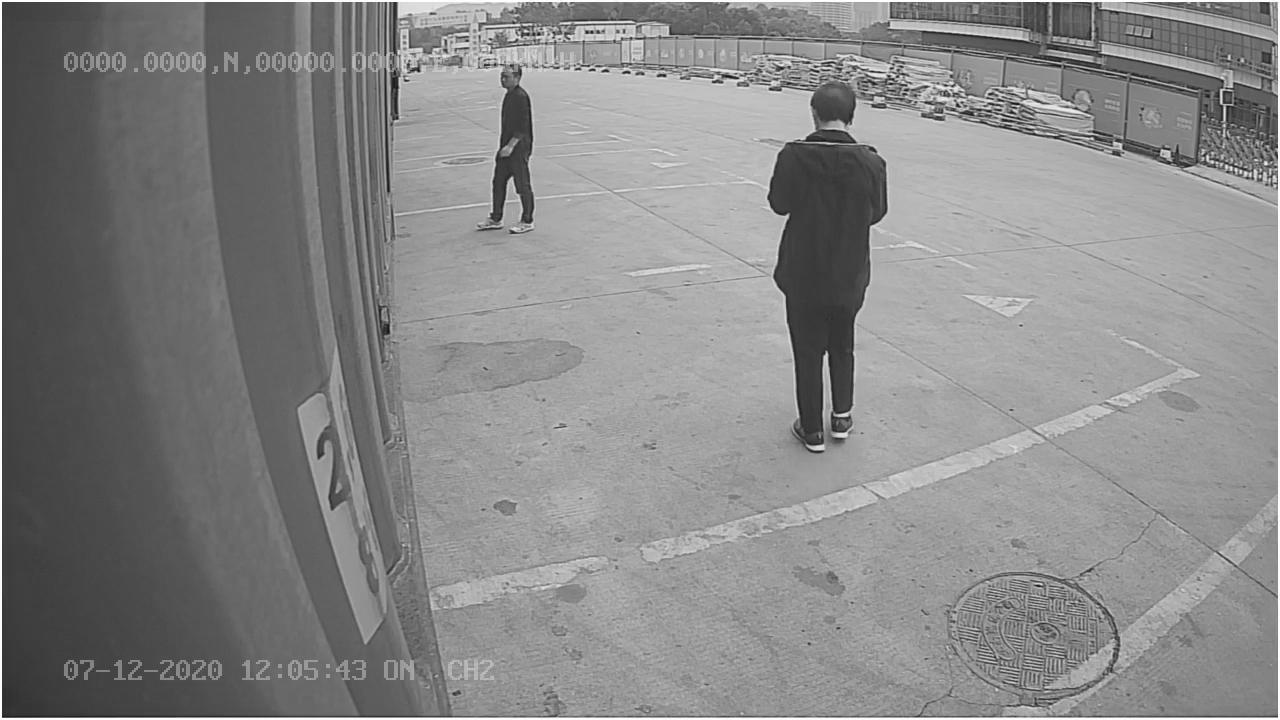person: (758, 82, 897, 451)
